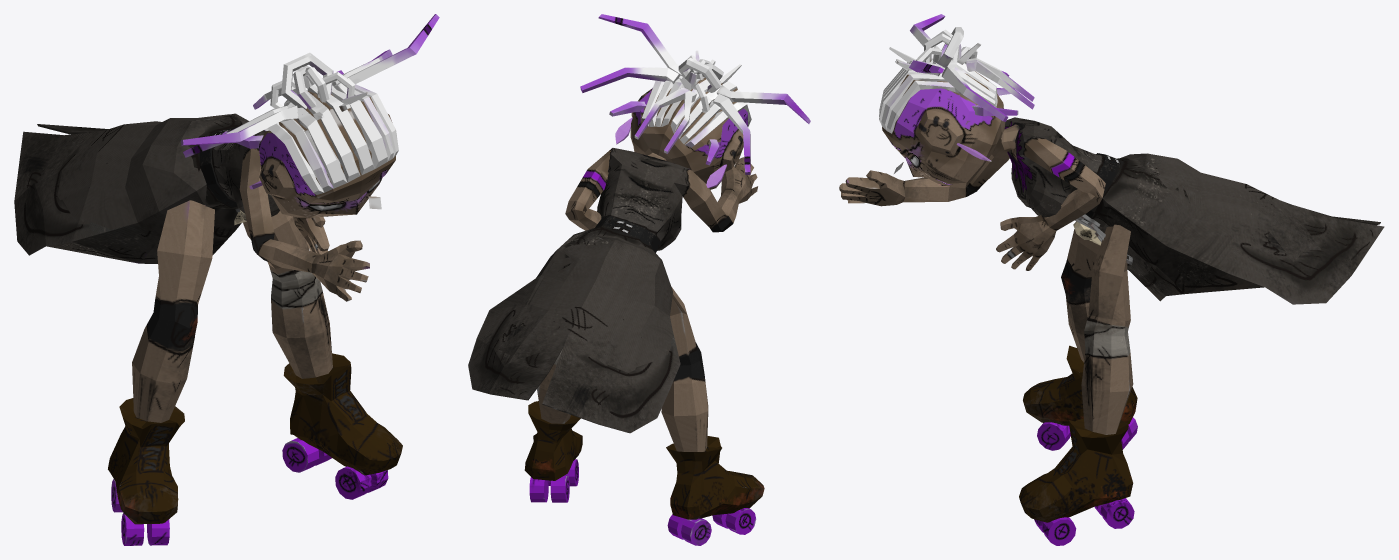
The model's file is bruja_000017.obj.
3 renders of one model, left to right at view 1: azimuth 30°, elevation 25°; view 2: azimuth 150°, elevation 25°; view 3: azimuth 270°, elevation 25°, orthographic. The views are drawn at different scales.
Parts seen in each view (by area): view 1: Bruja_Plane.001; view 2: Bruja_Plane.001; view 3: Bruja_Plane.001.
Part boxes in pixels (x1,y1,x2,y2): Bruja_Plane.001: (14,14,439,545); Bruja_Plane.001: (468,14,810,545); Bruja_Plane.001: (839,14,1384,545).
Bounding box in the file's own units: 7.8 × 14.17 × 14.7.
